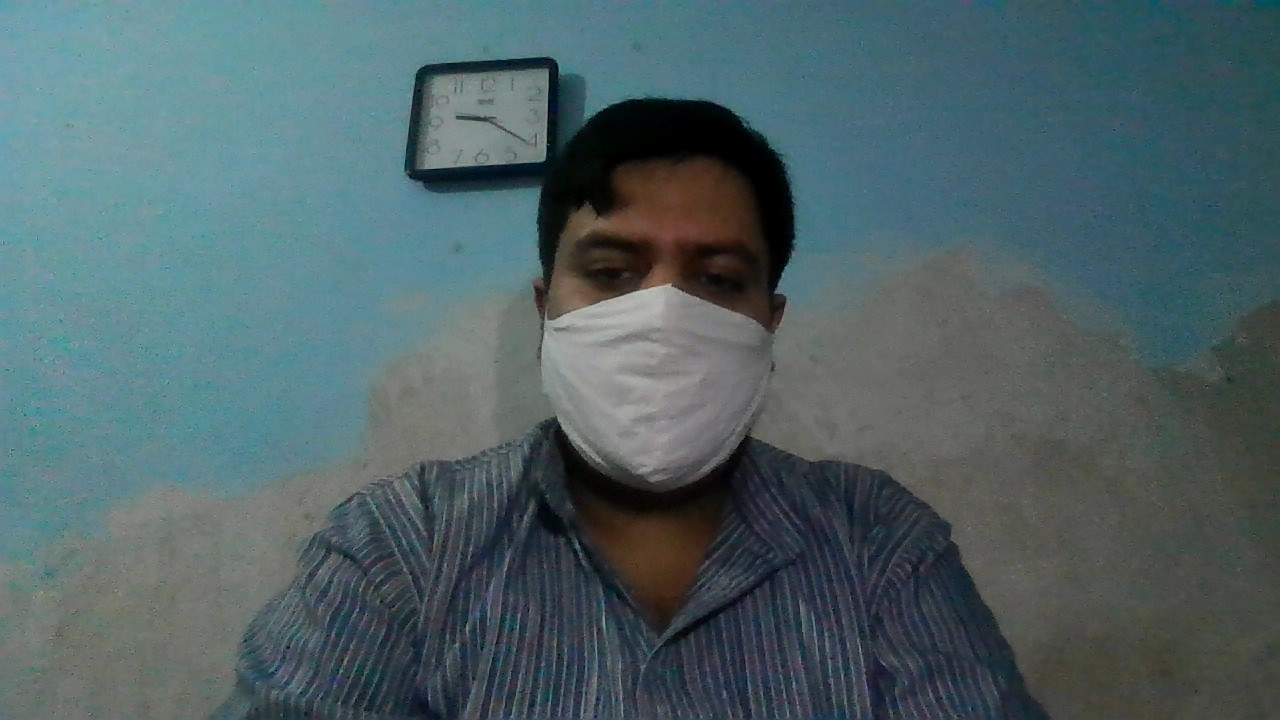Mask: (538, 283, 787, 499)
